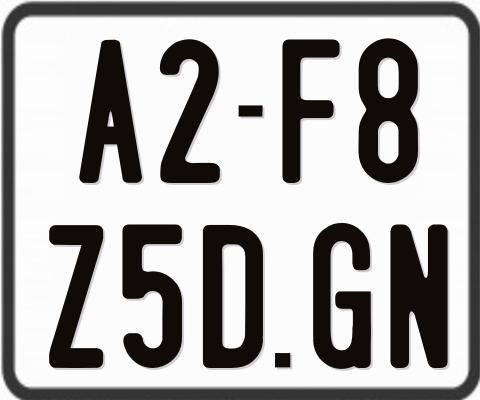2: (160, 39, 224, 188)
5: (119, 224, 182, 369)
8: (358, 35, 421, 183)
A: (76, 37, 145, 183)
D: (202, 225, 262, 370)
F: (279, 37, 339, 186)
G: (310, 223, 371, 369)
N: (387, 222, 447, 372)
Z: (47, 222, 103, 368)
